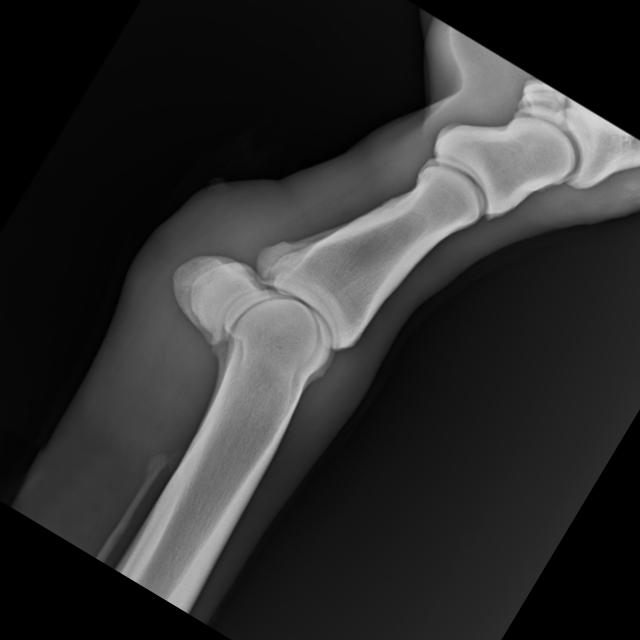joint-ht8A: (105, 142, 453, 473)
